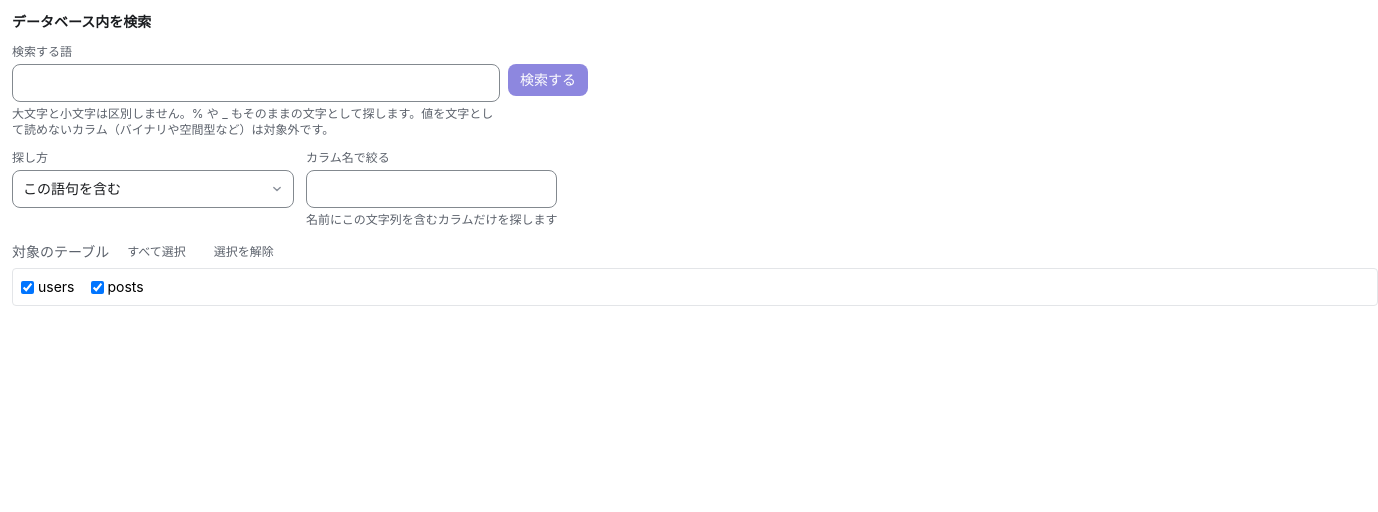
Test: DatabaseSearch › can search again after a run, also under StrictMode (mount, cleanup, mount in development)
The image size is (1378, 512).
In the field labelled "検索する語": [256, 83] box x1=12 y1=64 x2=500 y2=102, type "a"
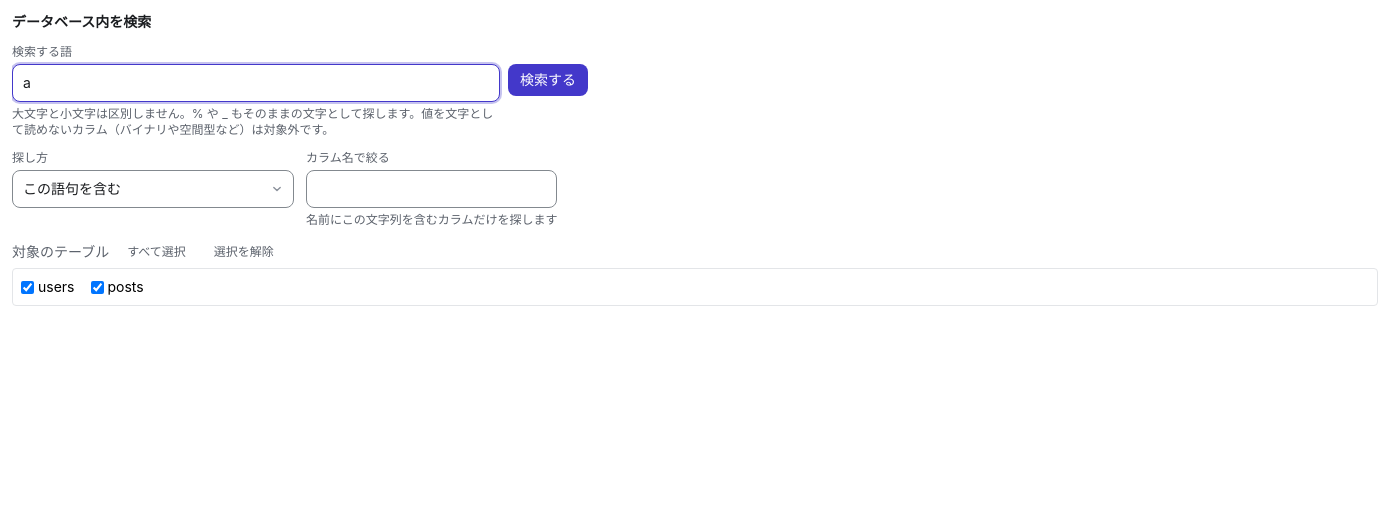
Click the button "検索する": [548, 80] box x1=508 y1=64 x2=588 y2=96
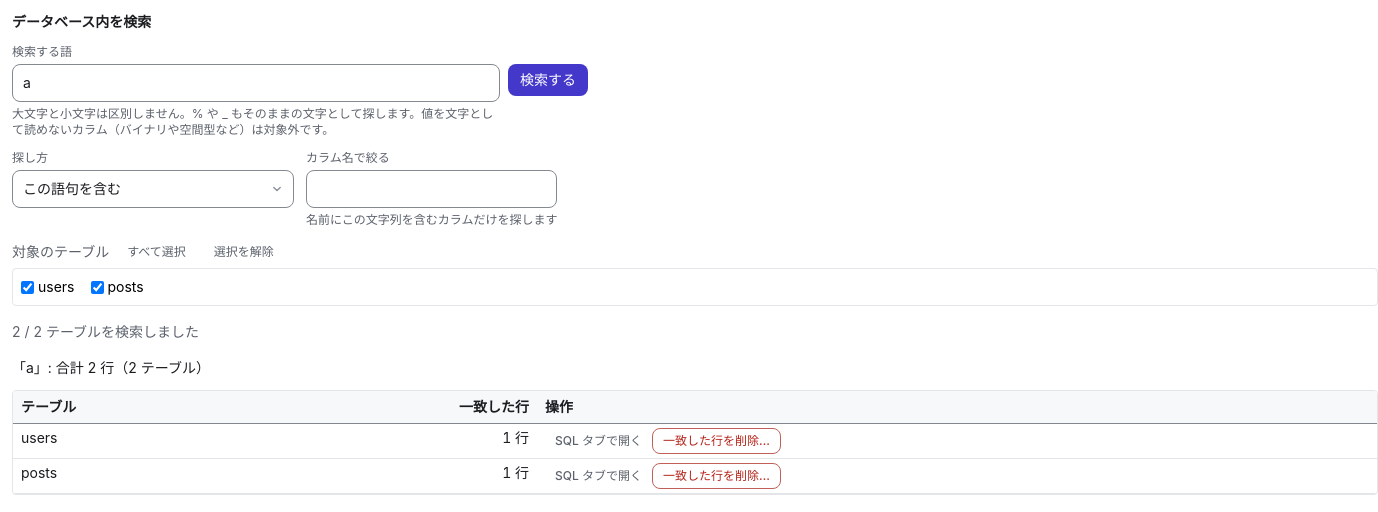
Check: the button "検索する" is enabled, box x1=508 y1=64 x2=588 y2=96
Check: the text "2 / 2 テーブルを検索しました" is shown, box x1=12 y1=322 x2=199 y2=342
